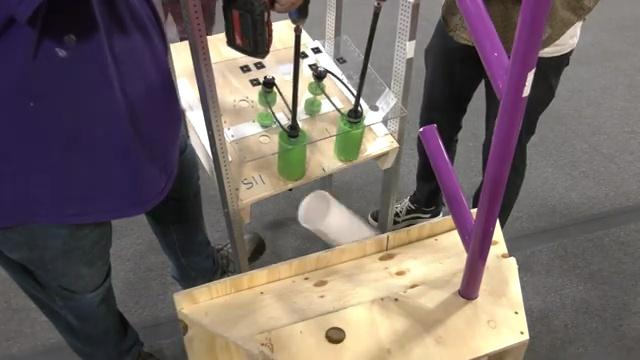CORAL: (296, 188, 379, 247)
